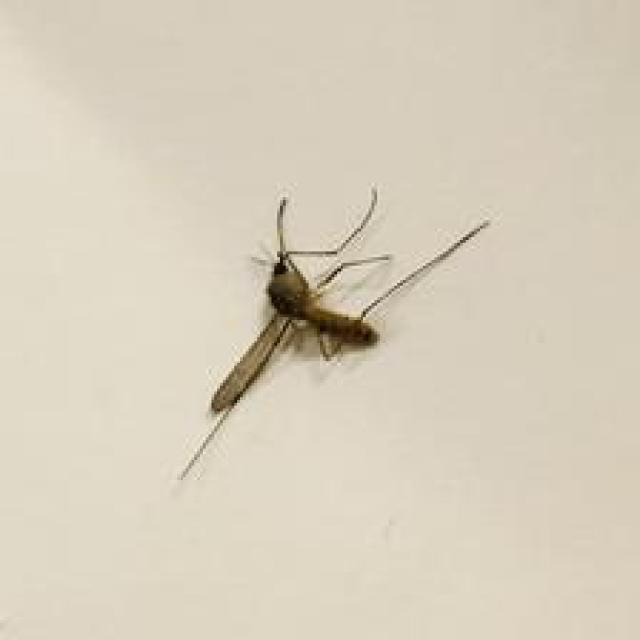Culex: (177, 184, 492, 482)
